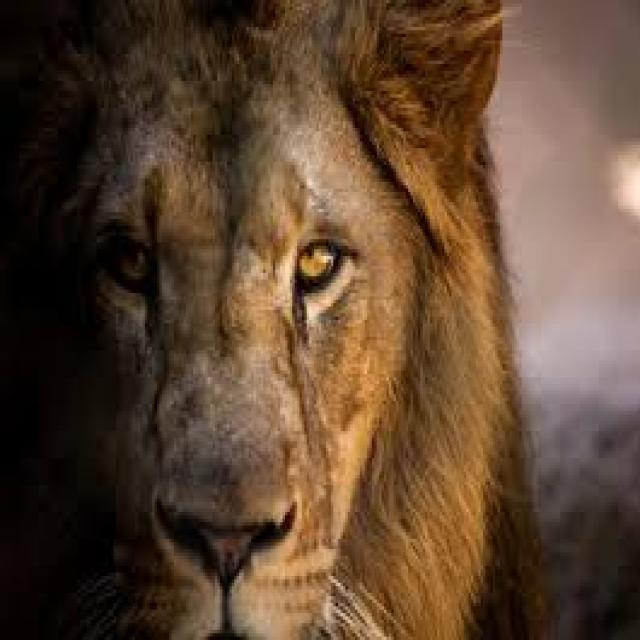Lion: (4, 0, 522, 640)
